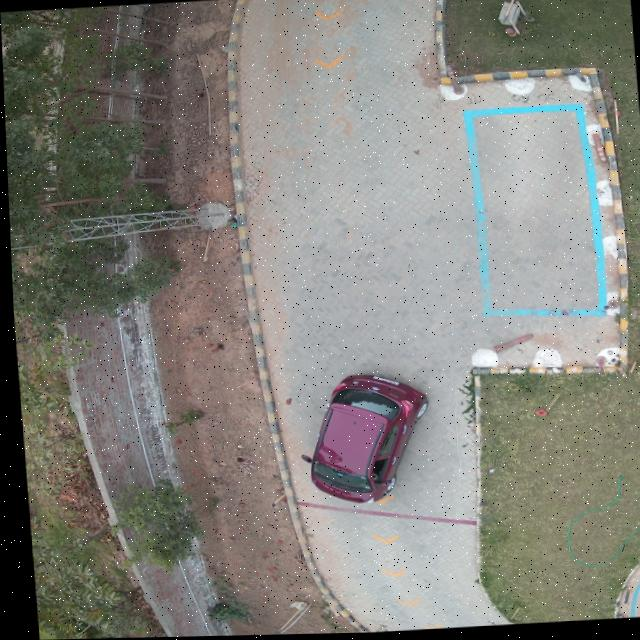car: (298, 374, 423, 504)
